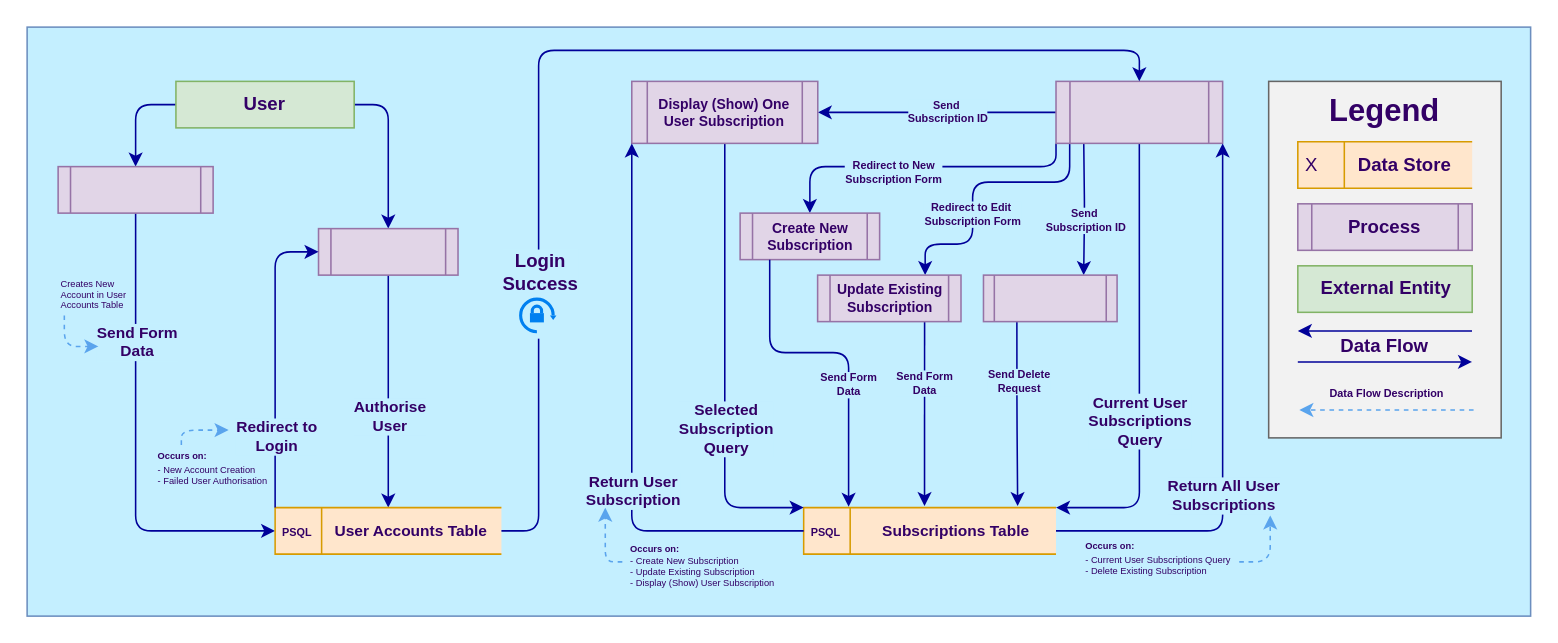
Image size: 1558x643. Some labels were removed from this diagram. Here are the shapes that lost their labels. From the top down, the box of each, then its label:
(1054, 80, 1223, 143): Display (Index) All User Subscriptions
(57, 165, 213, 213): Create New User Account
(317, 227, 458, 275): Login
(982, 274, 1117, 322): Delete Existing Subscription
